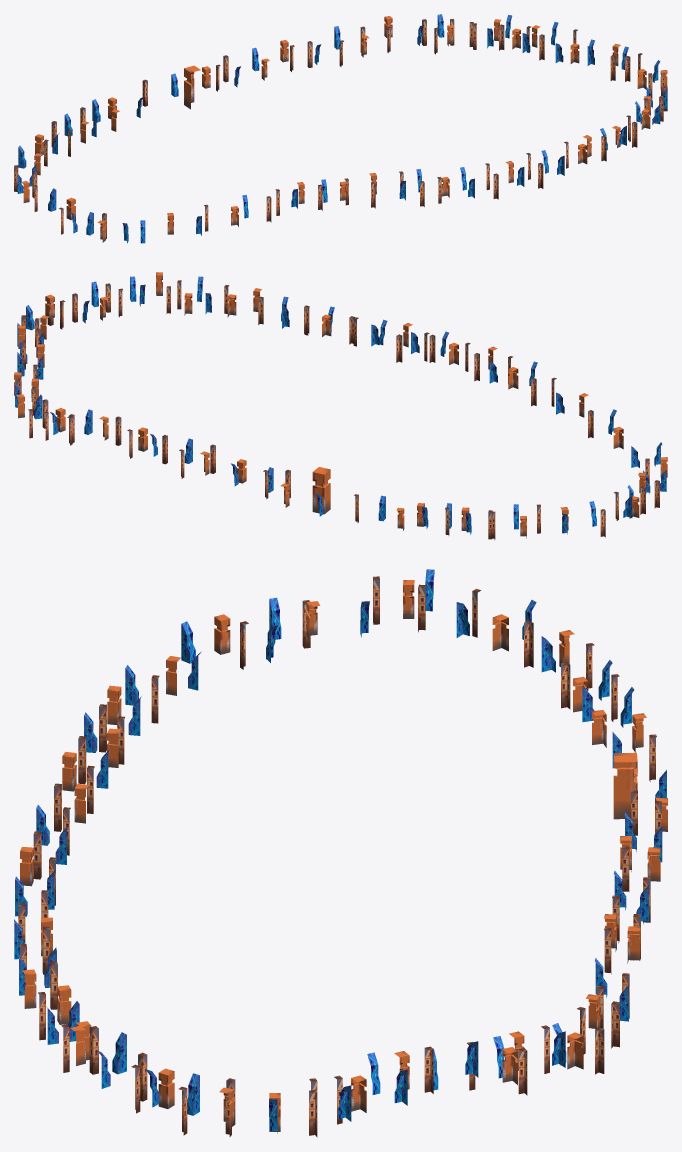
File: track3.FBX
The picture shows the model from 3 angles, top to bottom: view 1: azimuth 30°, elevation 25°; view 2: azimuth 150°, elevation 25°; view 3: azimuth 270°, elevation 25°; orthographic projection. The views are drawn at different scales.
Visible parts, largest first — view 1: Background2, Box335; view 2: Background2, Box335; view 3: Background2, Box335.
Part boxes in pixels (x1,y1,x2,y2): Background2: (17, 14, 667, 243); Box335: (184, 65, 200, 109); Background2: (14, 276, 666, 534); Box335: (312, 467, 330, 514); Background2: (14, 569, 666, 1133); Box335: (613, 752, 637, 819).
Size of the model in its own units: 936456 by 70830 by 491643.
